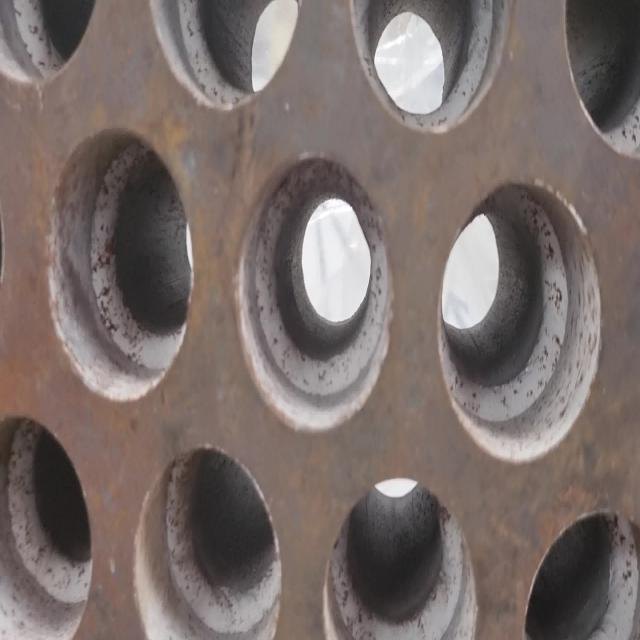Hole: (437, 177, 602, 465), (235, 150, 394, 434), (45, 126, 194, 404), (132, 441, 282, 639), (324, 474, 478, 638), (352, 0, 509, 134), (2, 412, 94, 639), (146, 1, 304, 112), (523, 510, 639, 640), (564, 2, 640, 162), (1, 0, 106, 86)
